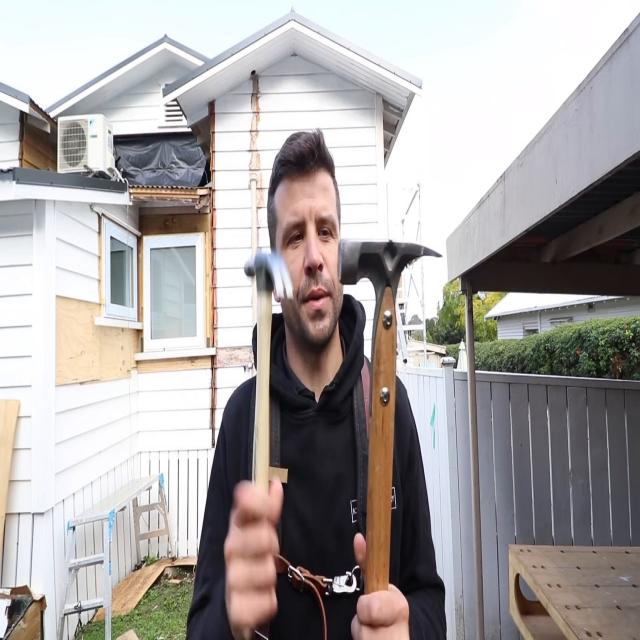hammer: (335, 229, 445, 633), (241, 248, 297, 499)
